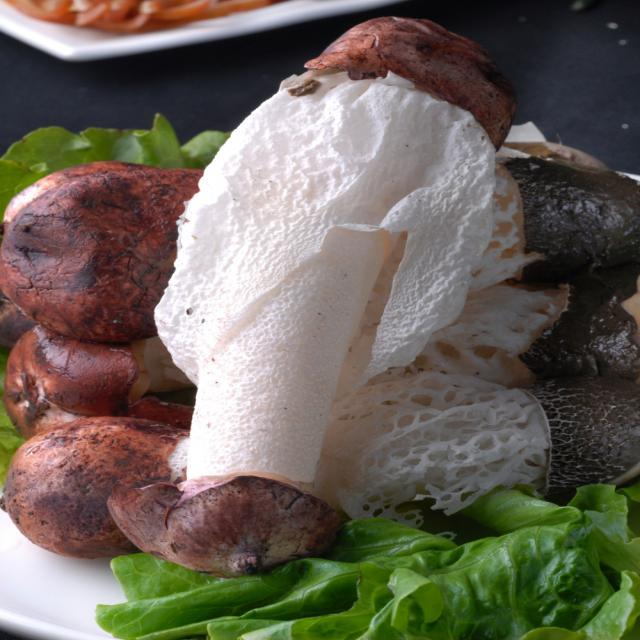Dictyophora indusiate: (141, 19, 526, 547), (314, 365, 640, 508)
